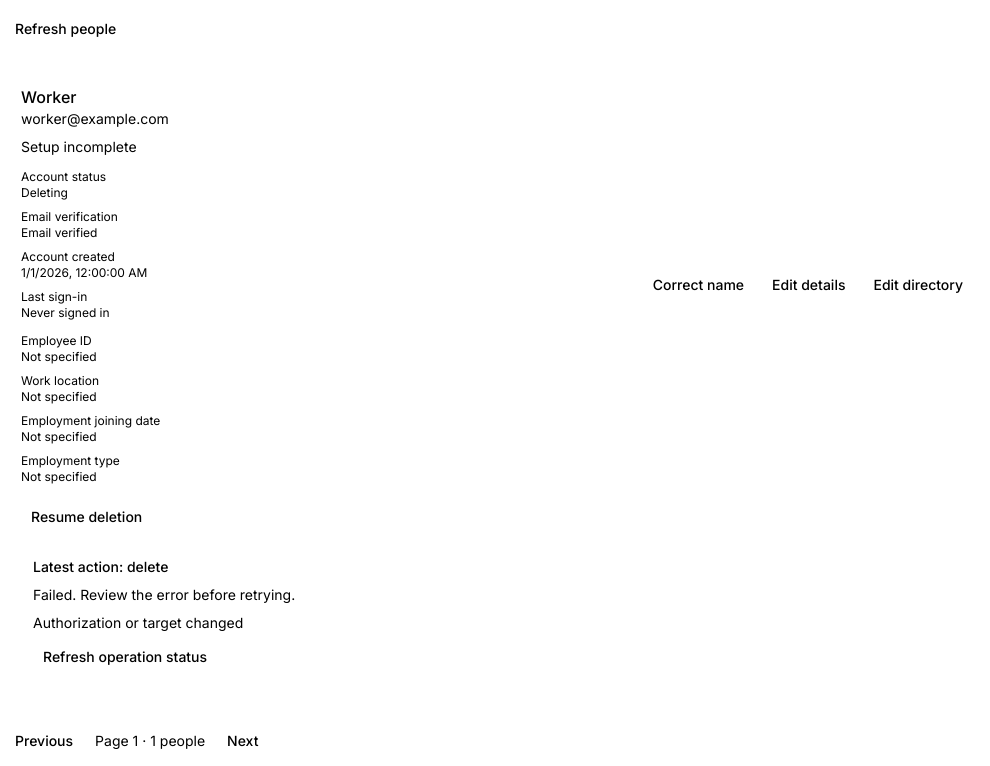
Test: lets the owner resume deletion after the initiating admin loses authorization
This screenshot has width=990, height=766.
(page scrolled)
Click the button "Resume deletion" at (87, 517), box [21, 501, 152, 533]
(page scrolled)
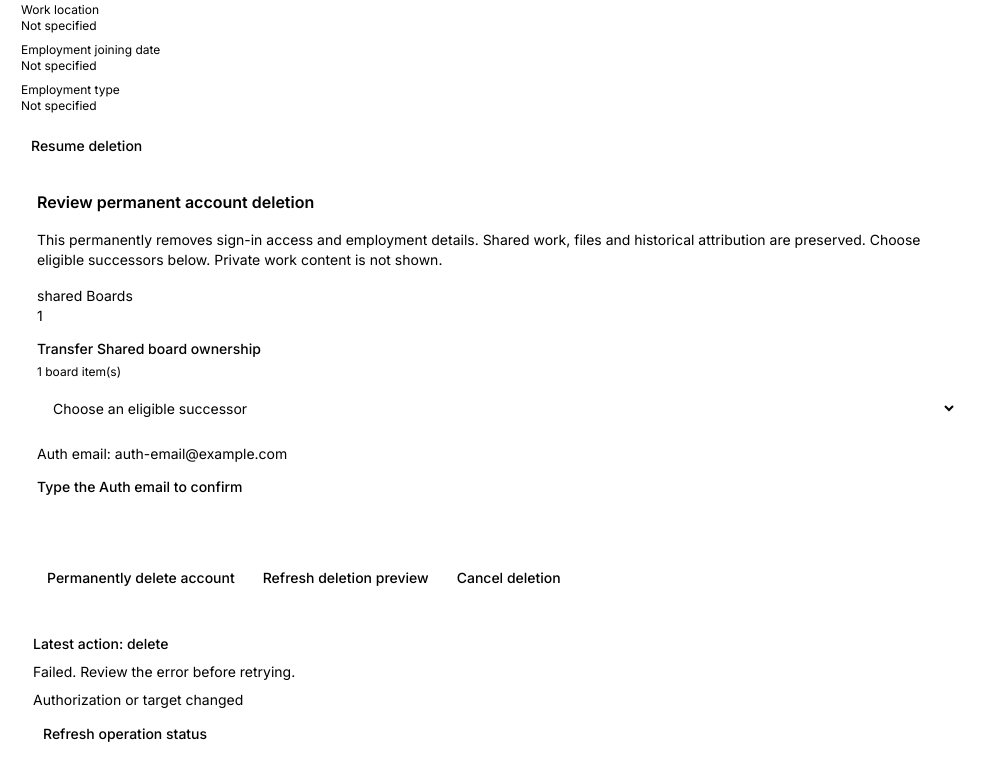
Now the element named "Delete account review" is shown, box [21, 174, 973, 610]
